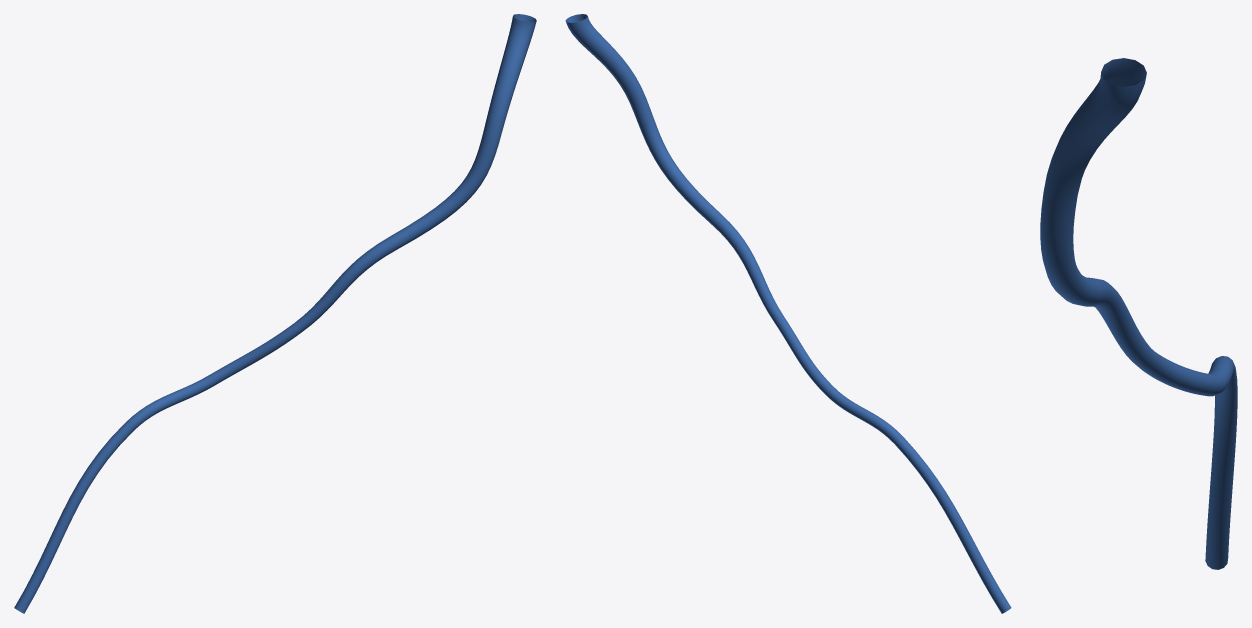
3 renders of one model, left to right at view 1: azimuth 30°, elevation 25°; view 2: azimuth 150°, elevation 25°; view 3: azimuth 270°, elevation 25°, orthographic. The views are drawn at different scales.
Parts seen in each view (by area): view 1: 左侧岩上窦; view 2: 左侧岩上窦; view 3: 左侧岩上窦.
Part boxes in pixels (box(x1,y1,x2,y2)): 左侧岩上窦: box(14, 14, 536, 613); 左侧岩上窦: box(565, 14, 1011, 613); 左侧岩上窦: box(1040, 58, 1237, 569).
Size of the model in its own units: 0.0691 by 0.0666 by 0.0127.
